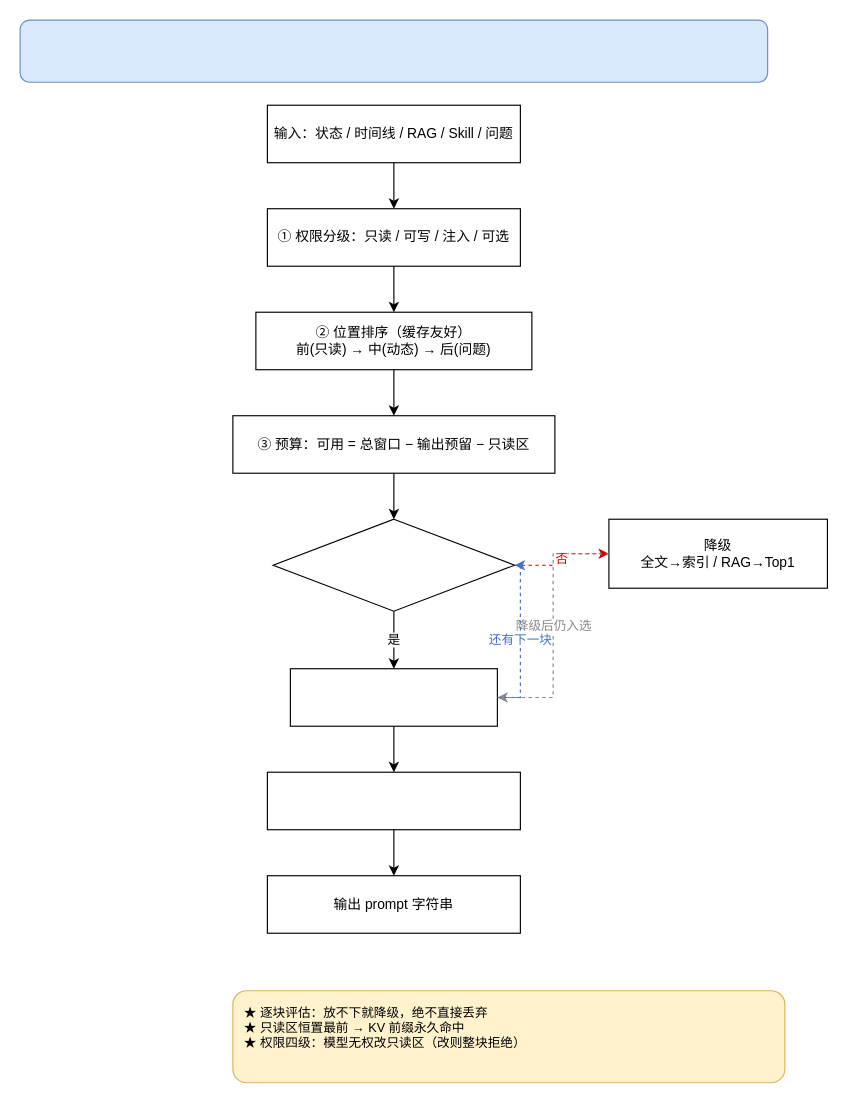
Some shapes in this 848 by 1103 pixel diagram are drawn without their labels. Each missing label, with the centre of its shape:
"④ 选中并入 prompt" goes at (x=393, y=697).
"当前块放得下?" goes at (x=393, y=564).
"按位置拼接 (前 | 中 | 后)" goes at (x=393, y=800).
"生成器 · 上下文治理引擎 决定：什么内容能进 / 以什么权限 / 放什么位置 / 占多少预算" goes at (x=393, y=50).
